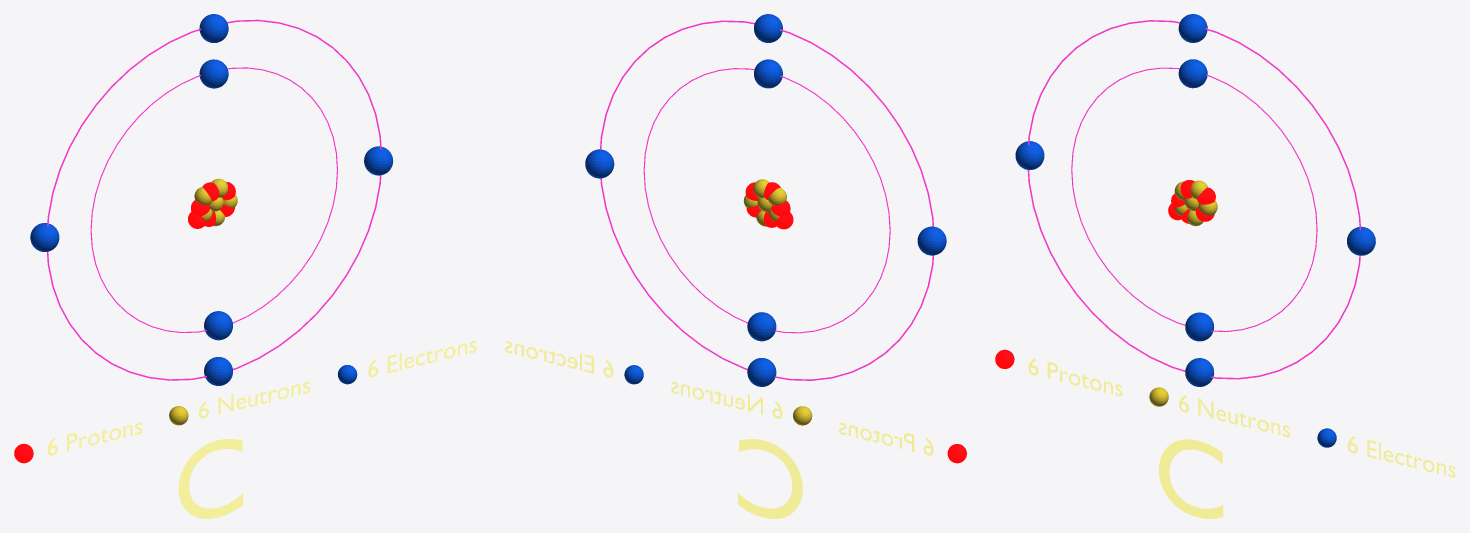
Rendered from carbon.glb.
The picture shows the model from 3 angles, left to right: view 1: azimuth 30°, elevation 25°; view 2: azimuth 150°, elevation 25°; view 3: azimuth 330°, elevation 25°; orthographic projection.
Visible parts, largest first — view 1: BézierCircle.001, Text, BézierCircle, Text.003, Text.002, Sphere.015, Sphere.009, Sphere.016, Sphere.002, Sphere.001, Sphere.020, Text.001; view 2: BézierCircle.001, Text, BézierCircle, Text.003, Sphere.001, Sphere.009, Sphere.016, Sphere.002, Sphere.020, Sphere.015, Text.002, Text.001; view 3: BézierCircle.001, Text, BézierCircle, Text.002, Text.003, Sphere.001, Sphere.002, Sphere.015, Sphere.016, Sphere.009, Sphere.020, Text.001.
Part boxes in pixels (box(x1,y1,x2,y2)): BézierCircle.001: box(47, 19, 381, 380); Text: box(178, 439, 243, 518); BézierCircle: box(90, 67, 337, 332); Text.003: box(368, 341, 476, 377); Text.002: box(199, 381, 310, 418); Sphere.015: box(199, 14, 228, 42); Sphere.009: box(364, 146, 393, 175); Sphere.016: box(30, 223, 59, 251); Sphere.002: box(199, 59, 228, 88); Sphere.001: box(204, 311, 232, 340); Sphere.020: box(204, 357, 232, 385); Text.001: box(47, 422, 142, 455); BézierCircle.001: box(600, 20, 933, 380); Text: box(738, 439, 802, 518); BézierCircle: box(643, 68, 890, 333); Text.003: box(505, 341, 613, 377); Sphere.001: box(747, 312, 776, 341); Sphere.009: box(585, 149, 614, 178); Sphere.016: box(917, 226, 946, 255); Sphere.002: box(754, 59, 782, 88); Sphere.020: box(747, 358, 776, 386); Sphere.015: box(754, 14, 782, 42); Text.002: box(671, 382, 782, 418); Text.001: box(839, 422, 933, 455); BézierCircle.001: box(1027, 20, 1360, 379); Text: box(1158, 439, 1223, 518); BézierCircle: box(1071, 67, 1317, 331); Text.002: box(1179, 395, 1289, 437); Text.003: box(1347, 436, 1455, 477); Sphere.001: box(1185, 312, 1213, 341); Sphere.002: box(1178, 59, 1207, 88); Sphere.015: box(1178, 14, 1207, 42); Sphere.016: box(1015, 141, 1044, 169); Sphere.009: box(1347, 226, 1375, 255); Sphere.020: box(1185, 358, 1214, 386); Text.001: box(1028, 358, 1122, 396).
Bounding box in the file's own units: 4.37 × 4.56 × 0.2827.
